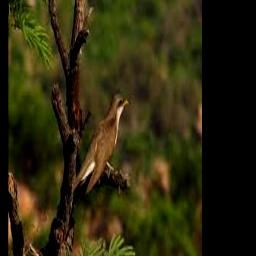Cuckoo: (72, 92, 129, 195)
